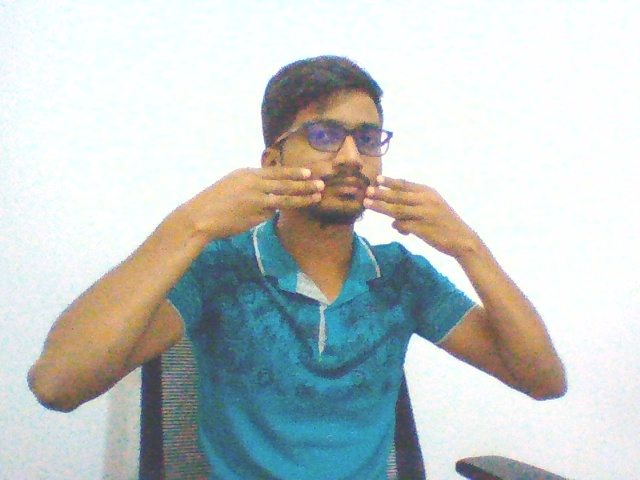cat: (175, 159, 486, 262)
